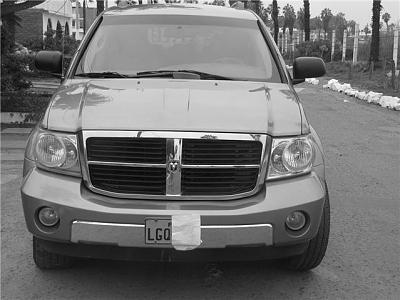car: (21, 5, 331, 272)
